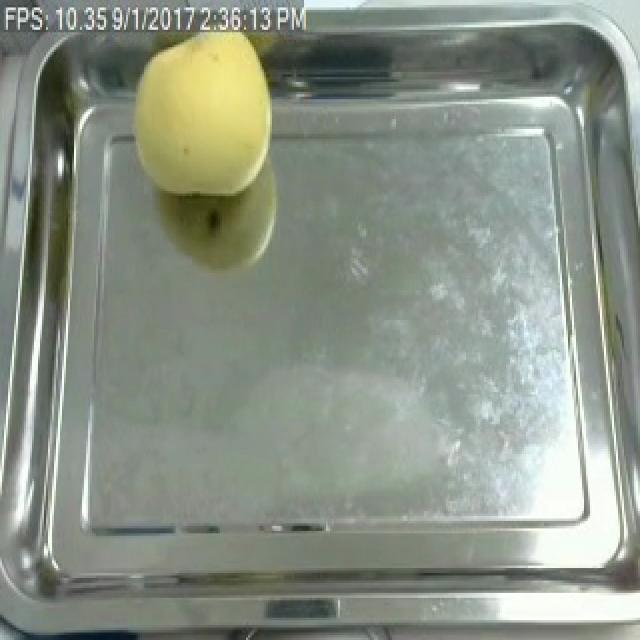Fruit: (118, 22, 282, 206)
